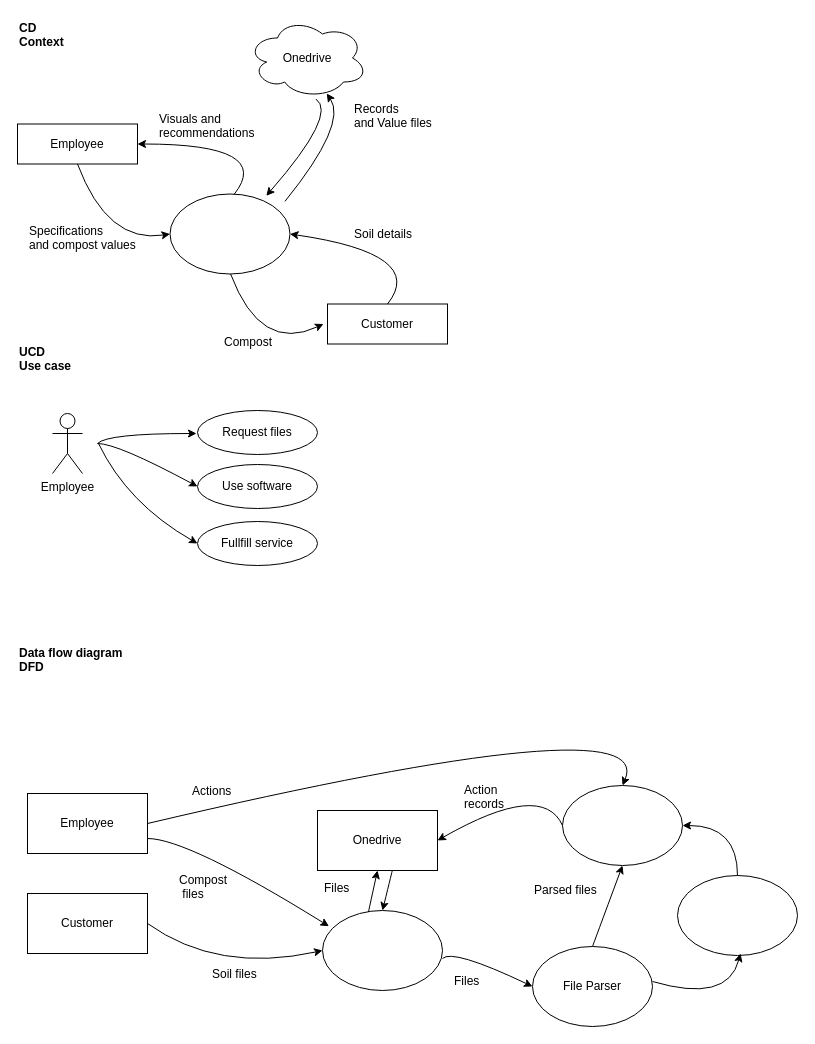
This 815x1044 diagram has some shape labels left out. Here are the shapes that lost their labels. From the top down, the centre of each, then its label:
pixel 229 233: Nutrient tracker
pixel 622 825: GUI
pixel 737 915: Recommendations
pixel 382 950: File Storage and retrieval
